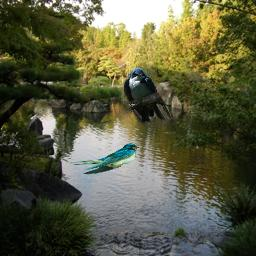Swallow: (122, 67, 173, 128), (69, 143, 139, 175)
